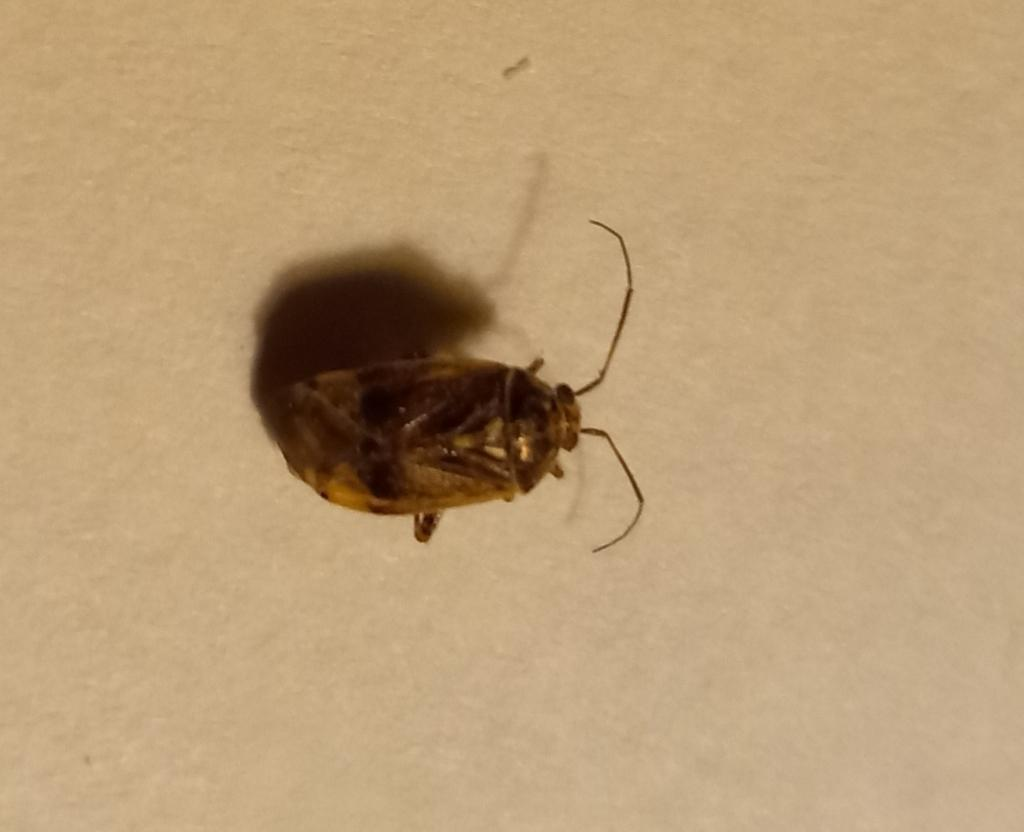plant_bugs: (179, 178, 727, 628)
